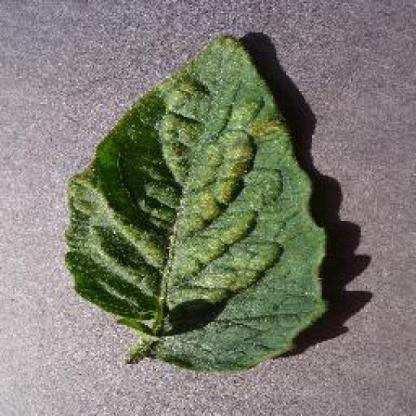Tomato_Spider_Mites: (64, 35, 326, 369)
